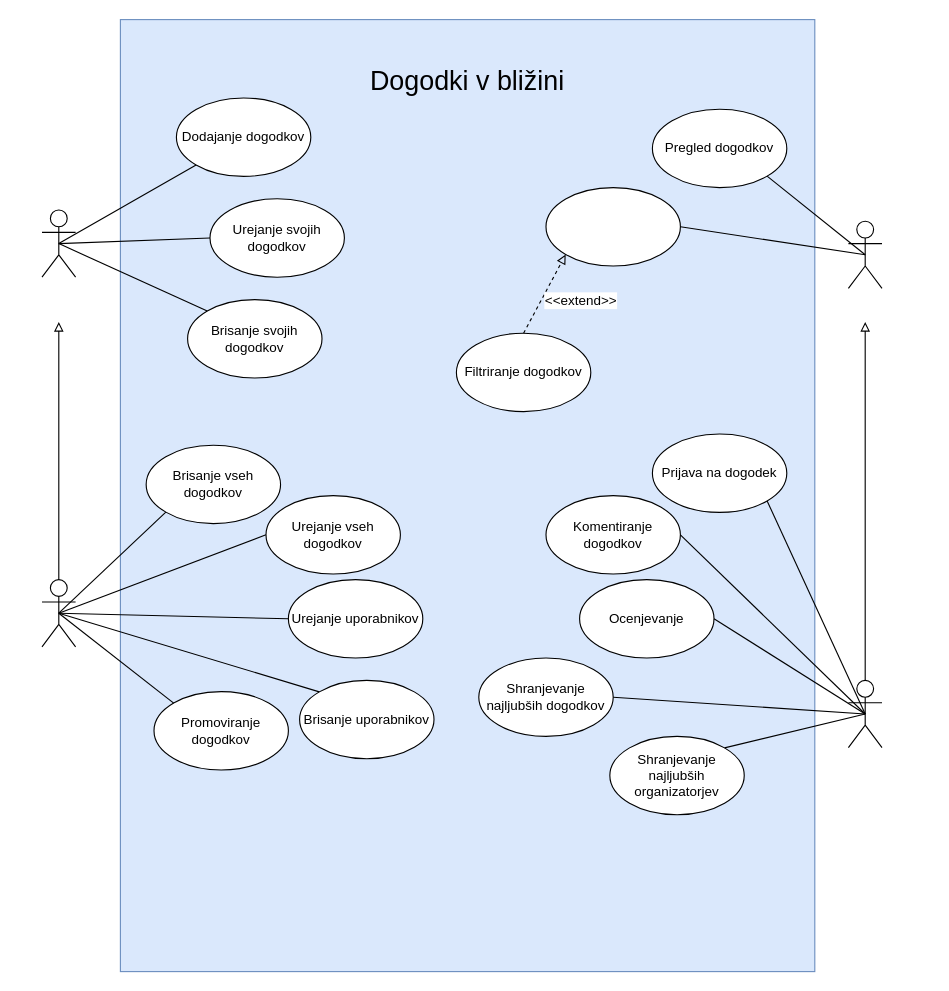
Some shapes in this 949 by 991 pixel diagram are drawn without their labels. Each missing label, with the centre of its shape:
Administrator: the point at 58,612
Iskanje dogodkov: the point at 612,226
Organizator: the point at 58,243
Registriran uporabnik: the point at 864,713
Uporabnik: the point at 864,254
